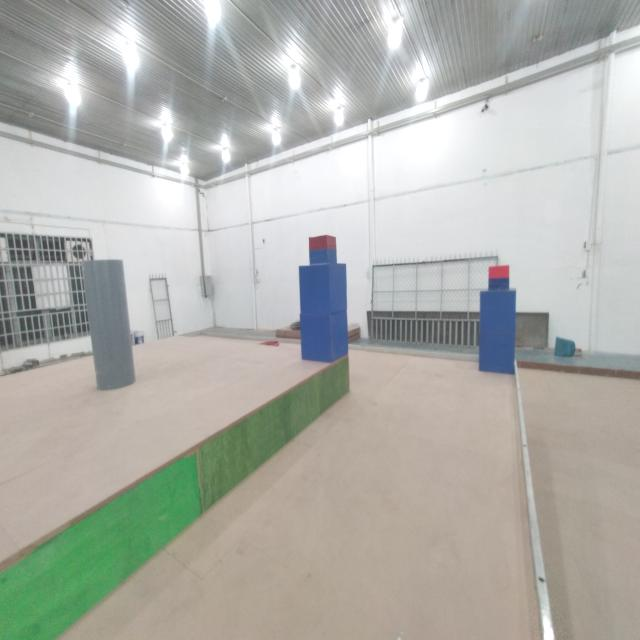earth_block: (296, 310, 351, 359), (296, 264, 350, 313), (477, 289, 520, 334), (475, 337, 519, 377)
sky_block: (307, 232, 340, 265), (487, 262, 511, 290)
